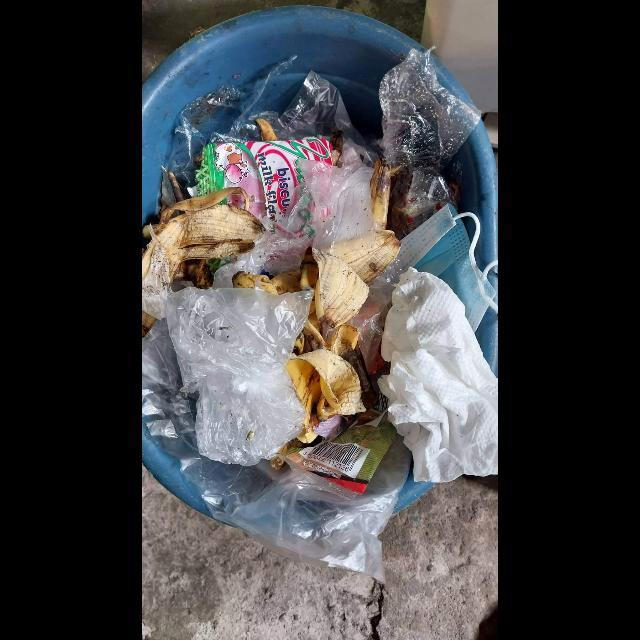food_wrapper: (284, 392, 397, 495), (196, 137, 334, 221)
paper: (377, 267, 498, 484)
plastic_bag: (165, 287, 315, 467), (375, 49, 482, 241)
